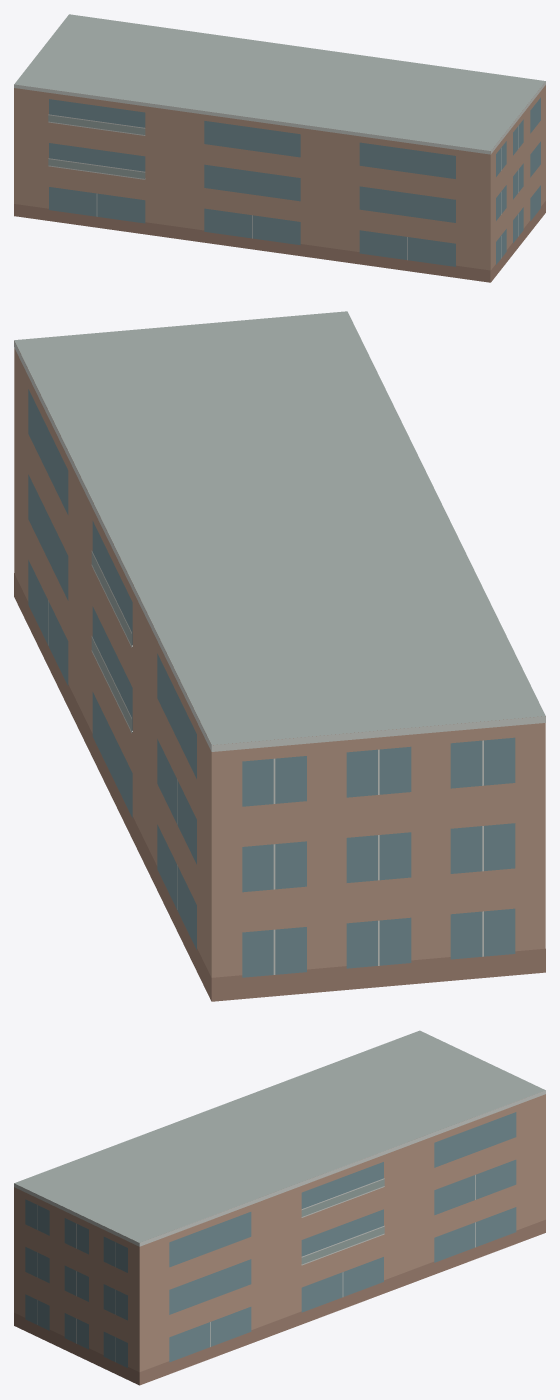
Rendered from survey-upis-32737718.glb.
3 views of the same model, one above another, from view 1: azimuth 30°, elevation 25°; view 2: azimuth 150°, elevation 25°; view 3: azimuth 270°, elevation 25° (orthographic). The views are drawn at different scales.
Visible parts, largest first — view 1: survey-upis-32737718.tmp; view 2: survey-upis-32737718.tmp; view 3: survey-upis-32737718.tmp.
Part boxes in pixels (x1,y1,x2,y2): survey-upis-32737718.tmp: (14,14,545,282); survey-upis-32737718.tmp: (14,311,545,1001); survey-upis-32737718.tmp: (14,1030,545,1385).
Bounding box in the file's own units: 29.28 × 9.15 × 30.96.
